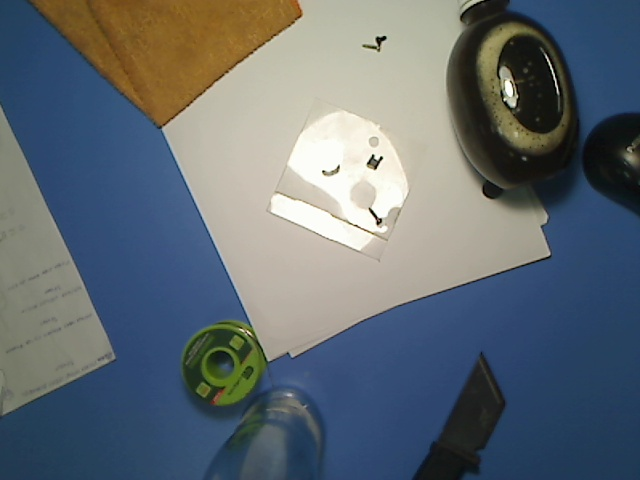plast_bottle: (442, 1, 582, 191)
